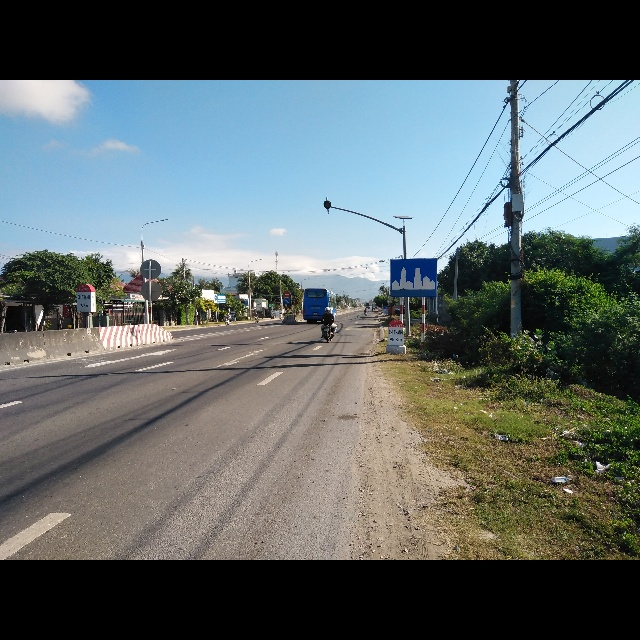Khu đông dân cư: (391, 256, 438, 297)
